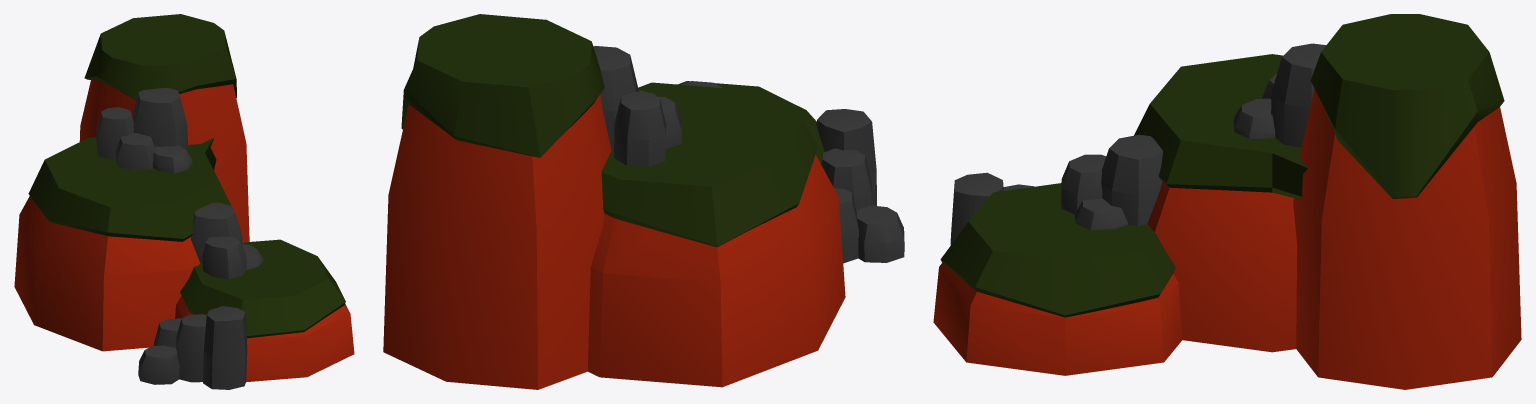
File: hill_simpleTwo.fbx
The picture shows the model from 3 angles, left to right: view 1: azimuth 30°, elevation 25°; view 2: azimuth 150°, elevation 25°; view 3: azimuth 270°, elevation 25°; orthographic projection. The views are drawn at different scales.
Parts seen in each view (by area): view 1: simple_two; view 2: simple_two; view 3: simple_two.
Boxes of the visible parts, box(x1,y1,x2,y2) form: simple_two: box(14, 14, 354, 389); simple_two: box(383, 14, 904, 389); simple_two: box(933, 14, 1521, 389).
Size of the model in its own units: 2169 by 1707 by 3161.
